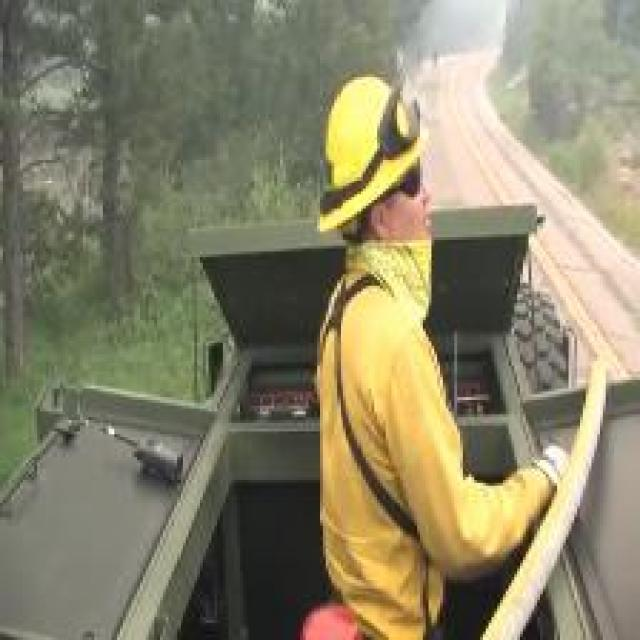other: (280, 76, 583, 626)
